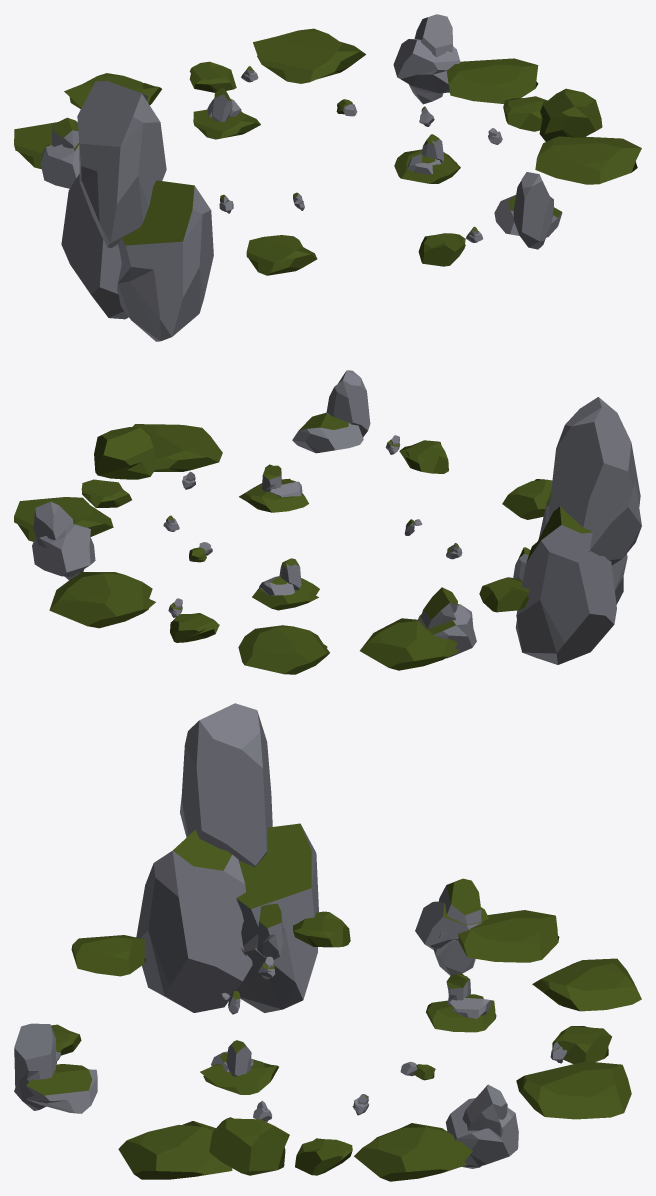
Rendered from stone-s1 1.fbx.
3 renders of one model, top to bottom at view 1: azimuth 30°, elevation 25°; view 2: azimuth 150°, elevation 25°; view 3: azimuth 270°, elevation 25°, orthographic. The views are drawn at different scales.
Parts seen in each view (by area): view 1: Cube.033, Cube.032, Cube.031, Cube.003, Cube.019, Cube.009, Cube.004, Cube.008, Cube.002, Cube.015, Cube.007, Cube.013 (+10 smaller); view 2: Cube.031, Cube.032, Cube.019, Cube.020, Cube.014, Cube.003, Cube.004, Cube.008, Cube.009, Cube.001, Cube.002, Cube.015 (+13 smaller); view 3: Cube.033, Cube.032, Cube.031, Cube.019, Cube.009, Cube.003, Cube.014, Cube.020, Cube.004, Cube.002, Cube.001, Cube.015 (+12 smaller).
Boxes of the visible parts, x1=… form: Cube.033: x1=117, y1=180, x2=213, y2=341; Cube.032: x1=77, y1=81, x2=166, y2=247; Cube.031: x1=61, y1=174, x2=128, y2=319; Cube.003: x1=535, y1=136, x2=641, y2=184; Cube.019: x1=253, y1=28, x2=365, y2=83; Cube.009: x1=447, y1=58, x2=538, y2=103; Cube.004: x1=539, y1=88, x2=602, y2=141; Cube.008: x1=393, y1=39, x2=460, y2=93; Cube.002: x1=513, y1=172, x2=553, y2=249; Cube.015: x1=246, y1=235, x2=317, y2=275; Cube.007: x1=409, y1=14, x2=452, y2=104; Cube.013: x1=40, y1=142, x2=79, y2=188; Cube.031: x1=515, y1=506, x2=616, y2=664; Cube.032: x1=548, y1=397, x2=641, y2=565; Cube.019: x1=49, y1=572, x2=155, y2=628; Cube.020: x1=238, y1=625, x2=329, y2=674; Cube.014: x1=360, y1=618, x2=459, y2=670; Cube.003: x1=132, y1=424, x2=222, y2=471; Cube.004: x1=94, y1=427, x2=158, y2=479; Cube.008: x1=32, y1=524, x2=95, y2=576; Cube.009: x1=14, y1=497, x2=113, y2=541; Cube.001: x1=292, y1=413, x2=363, y2=453; Cube.002: x1=326, y1=370, x2=370, y2=437; Cube.015: x1=502, y1=479, x2=552, y2=519; Cube.033: x1=136, y1=829, x2=252, y2=1012; Cube.032: x1=180, y1=703, x2=272, y2=867; Cube.031: x1=236, y1=823, x2=318, y2=1012; Cube.019: x1=516, y1=1061, x2=631, y2=1119; Cube.009: x1=354, y1=1123, x2=472, y2=1181; Cube.003: x1=118, y1=1121, x2=232, y2=1179; Cube.014: x1=458, y1=910, x2=559, y2=962; Cube.020: x1=532, y1=958, x2=641, y2=1011; Cube.004: x1=209, y1=1117, x2=289, y2=1175; Cube.002: x1=14, y1=1023, x2=55, y2=1110; Cube.001: x1=26, y1=1064, x2=97, y2=1113; Cube.015: x1=71, y1=935, x2=145, y2=976.
Bounding box in the file's own units: 185 × 84.62 × 165.
